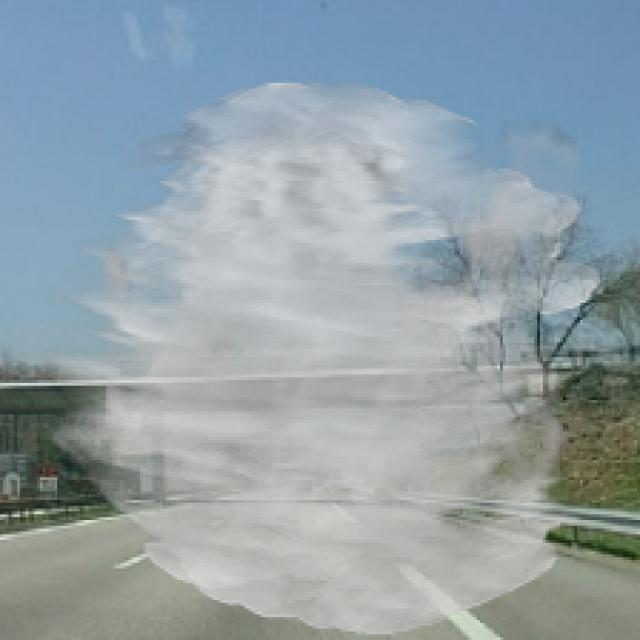smoke: (40, 80, 603, 634)
